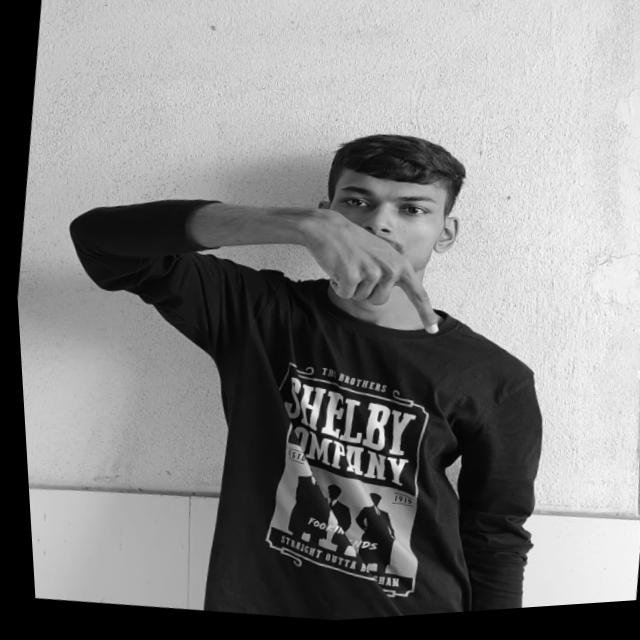Now: (283, 213, 455, 356)
